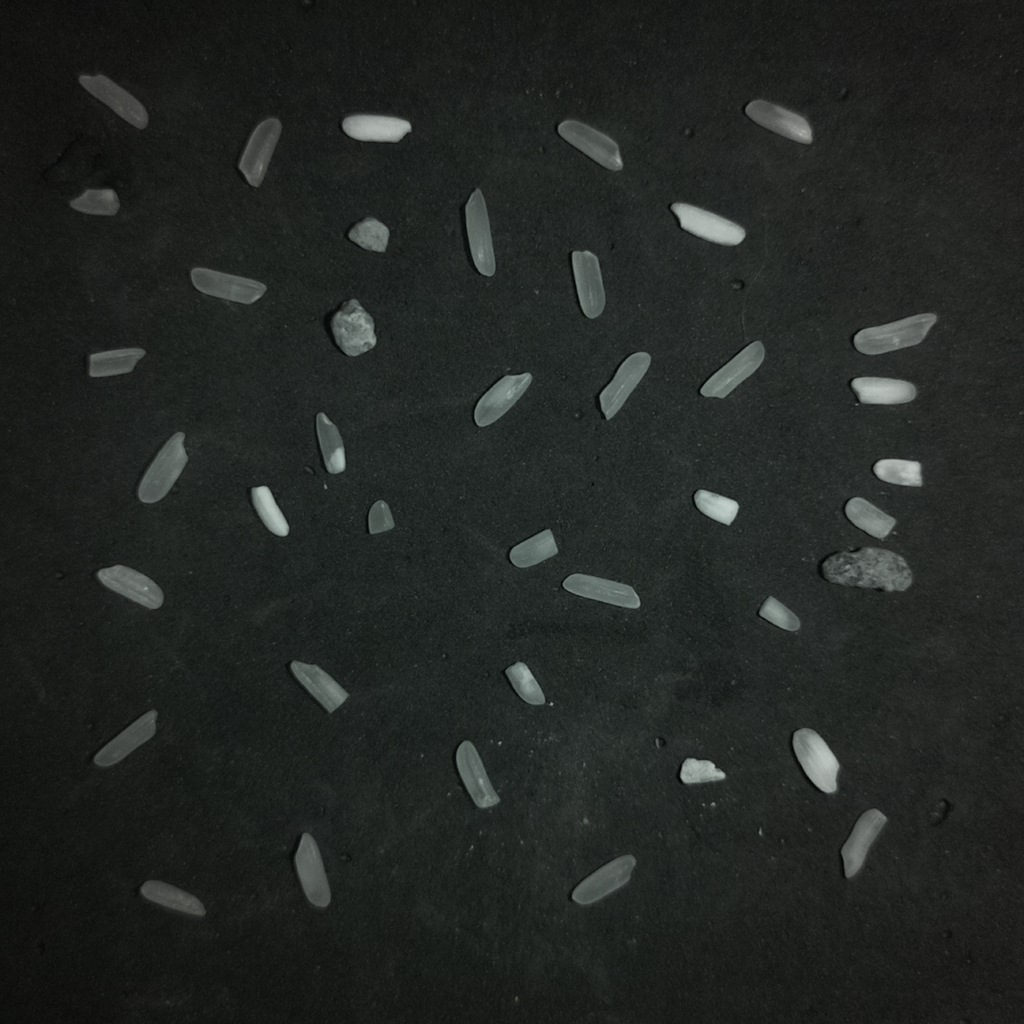broken: (88, 347, 145, 377), (69, 188, 119, 215), (368, 499, 394, 534)
chalky: (599, 352, 650, 419), (841, 808, 887, 878), (671, 202, 745, 245), (289, 660, 348, 712), (744, 99, 812, 144), (792, 728, 839, 793), (474, 373, 531, 426), (96, 565, 163, 609), (844, 497, 895, 538), (250, 485, 289, 536), (341, 114, 411, 142), (315, 412, 345, 473), (509, 529, 557, 567), (850, 377, 916, 404), (505, 662, 544, 705), (693, 489, 738, 524), (758, 596, 800, 631), (873, 458, 922, 486)
foreign: (821, 547, 912, 591), (330, 299, 376, 356), (347, 217, 389, 252), (679, 759, 725, 784)
whole: (78, 74, 148, 129), (93, 710, 157, 768), (700, 341, 765, 398), (138, 432, 187, 503), (853, 313, 937, 354), (557, 120, 622, 170), (571, 855, 635, 904), (238, 117, 281, 186), (456, 740, 499, 808), (190, 267, 266, 304), (294, 833, 331, 909), (464, 188, 495, 275), (562, 573, 639, 608), (140, 880, 205, 916), (571, 251, 605, 318)
